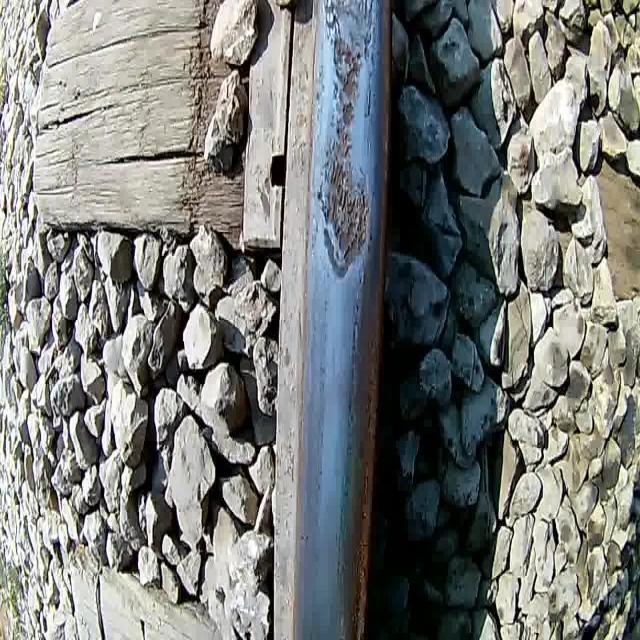Cracks: (359, 0, 386, 134), (319, 0, 346, 40)
Spallings: (314, 155, 372, 266), (328, 28, 363, 155)
Squats: (311, 0, 379, 286)
